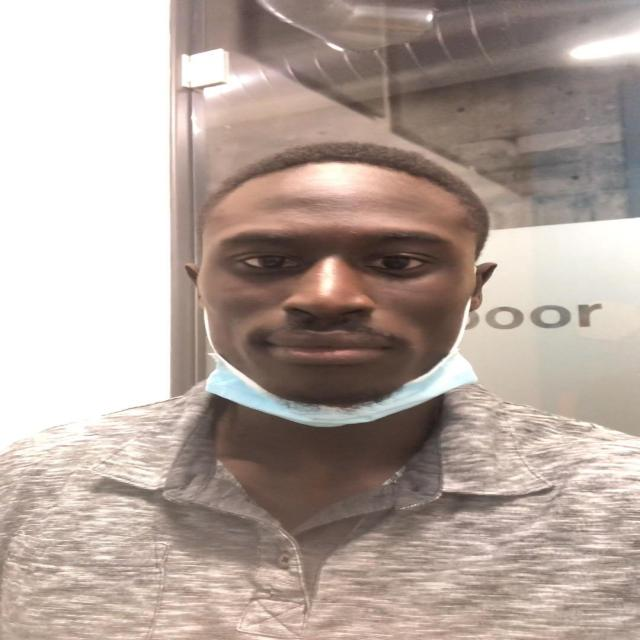face: (192, 153, 489, 404)
